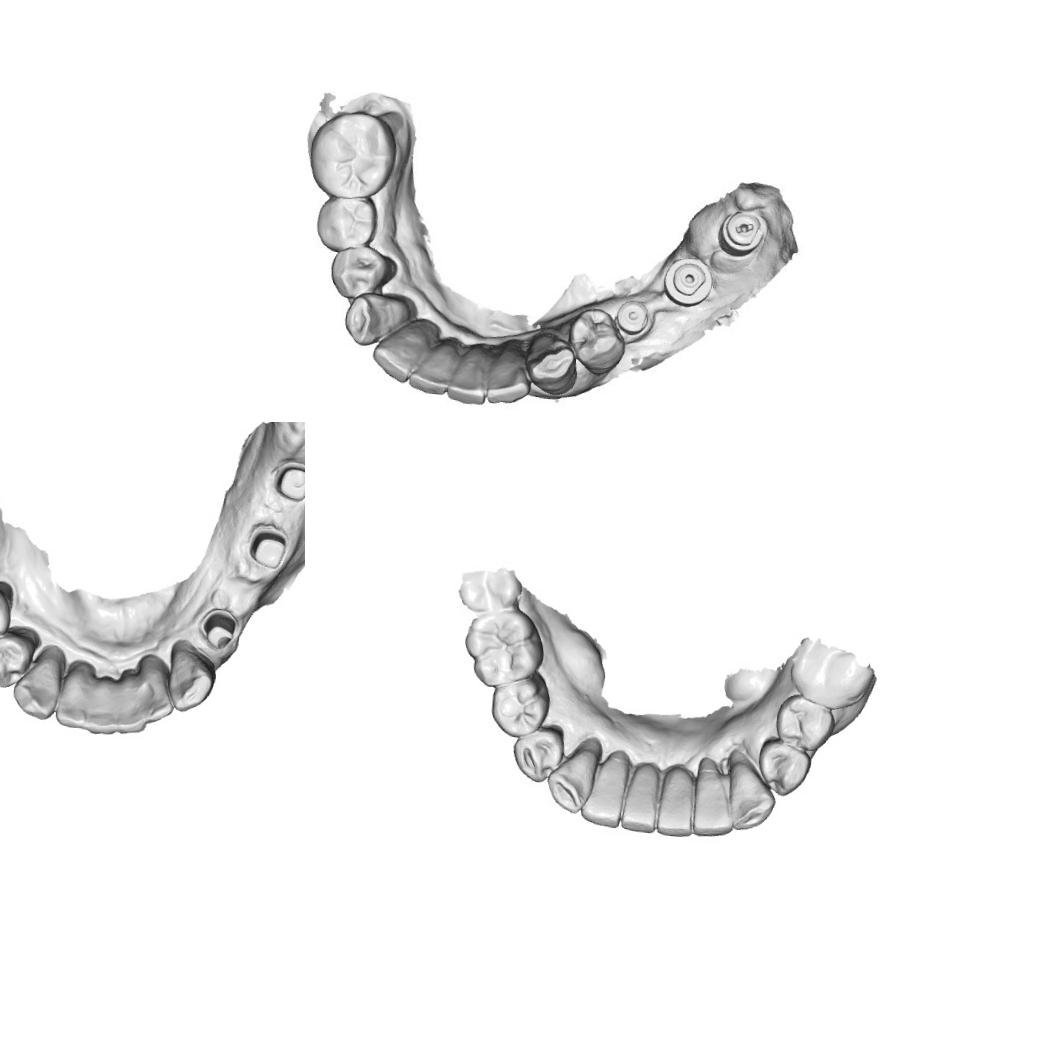abutment: (242, 520, 293, 572), (195, 605, 240, 651), (269, 457, 305, 505)
canine: (342, 286, 418, 354), (520, 325, 584, 395), (10, 643, 65, 722), (164, 637, 219, 715), (545, 742, 601, 814), (724, 762, 776, 835)
implant: (660, 254, 716, 312), (608, 293, 655, 342)
implant_minus: (710, 204, 770, 262)
incisor: (368, 320, 436, 388), (446, 328, 495, 404), (484, 332, 535, 404), (577, 761, 629, 829), (134, 654, 178, 726), (412, 331, 462, 394), (688, 776, 738, 837), (53, 656, 92, 730), (652, 776, 697, 840), (618, 768, 661, 834), (113, 668, 151, 736), (82, 672, 120, 738)
molar: (460, 604, 546, 693), (310, 112, 392, 199)
premolar: (486, 673, 552, 739), (568, 306, 628, 377), (771, 692, 836, 753), (314, 194, 376, 256), (752, 735, 812, 799), (509, 721, 568, 785), (330, 240, 396, 295), (0, 619, 41, 691), (0, 578, 15, 647)
